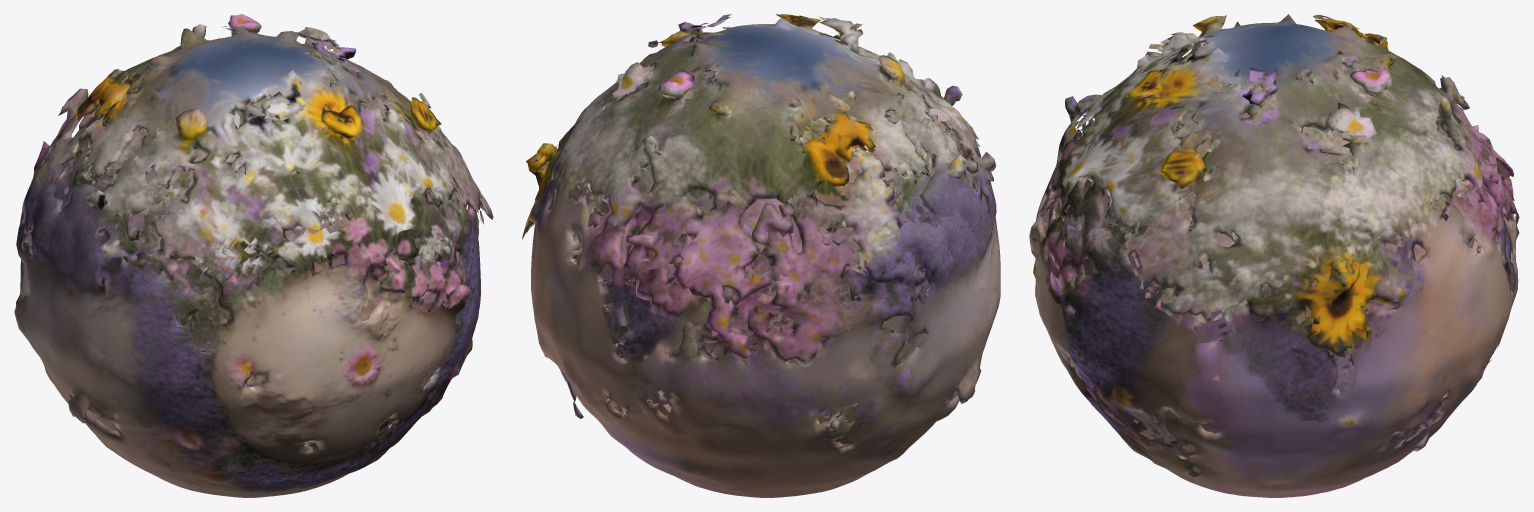
Rendered from flowers.glb.
3 views of the same model, side by side, from view 1: azimuth 30°, elevation 25°; view 2: azimuth 150°, elevation 25°; view 3: azimuth 270°, elevation 25° (orthographic). The views are drawn at different scales.
Bounding box in the file's own units: 1.89 × 1.92 × 1.94.
1 material, 1 textured.
